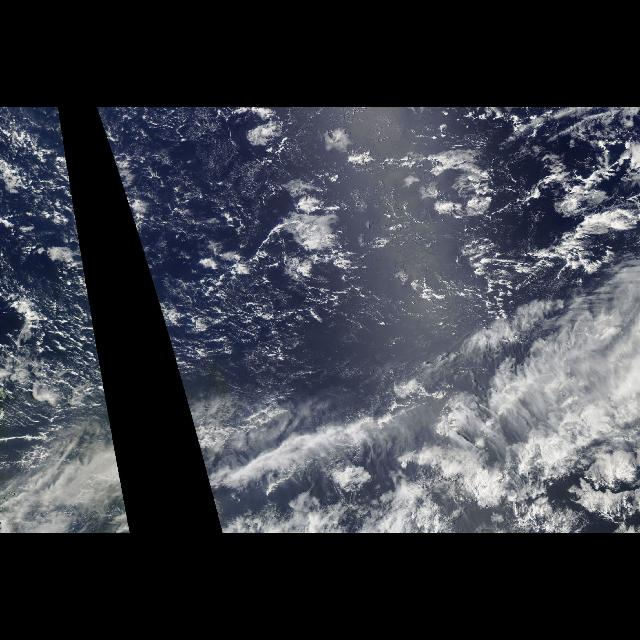Gravel: (98, 109, 438, 381), (0, 109, 104, 381)
